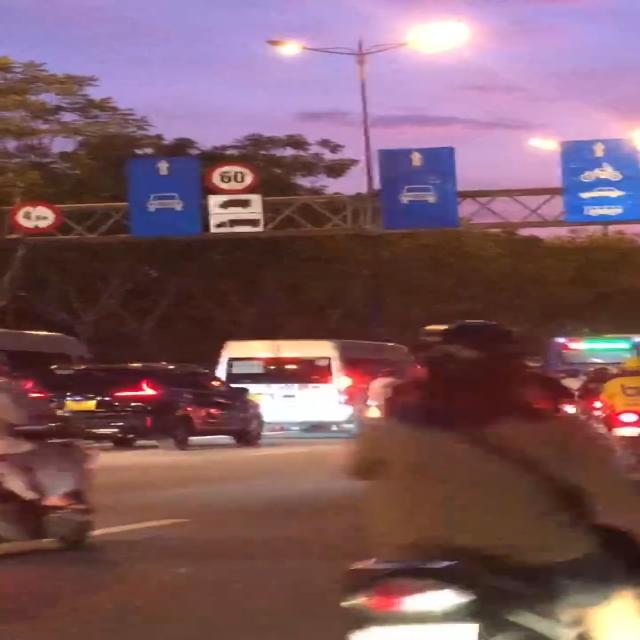Bien bao han che chieu cao: (6, 197, 71, 237)
Bien bao toc do toi da cho phep: (205, 158, 268, 195)
